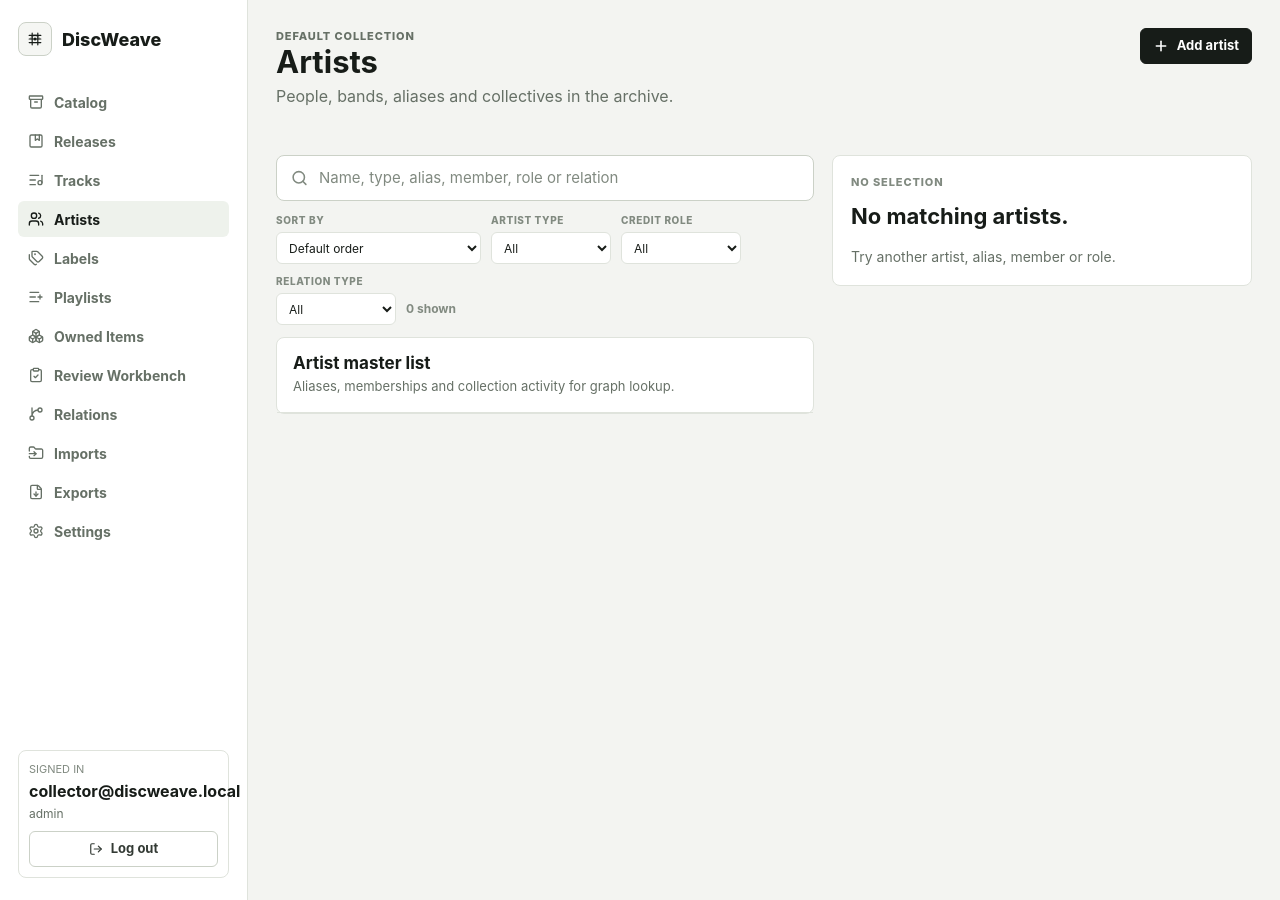
Scenario: App workspace navigation › shows mutation errors in editable workspaces
This screenshot has width=1280, height=900.
Click the button "Add artist": (1196, 46) [1140, 28, 1252, 64]
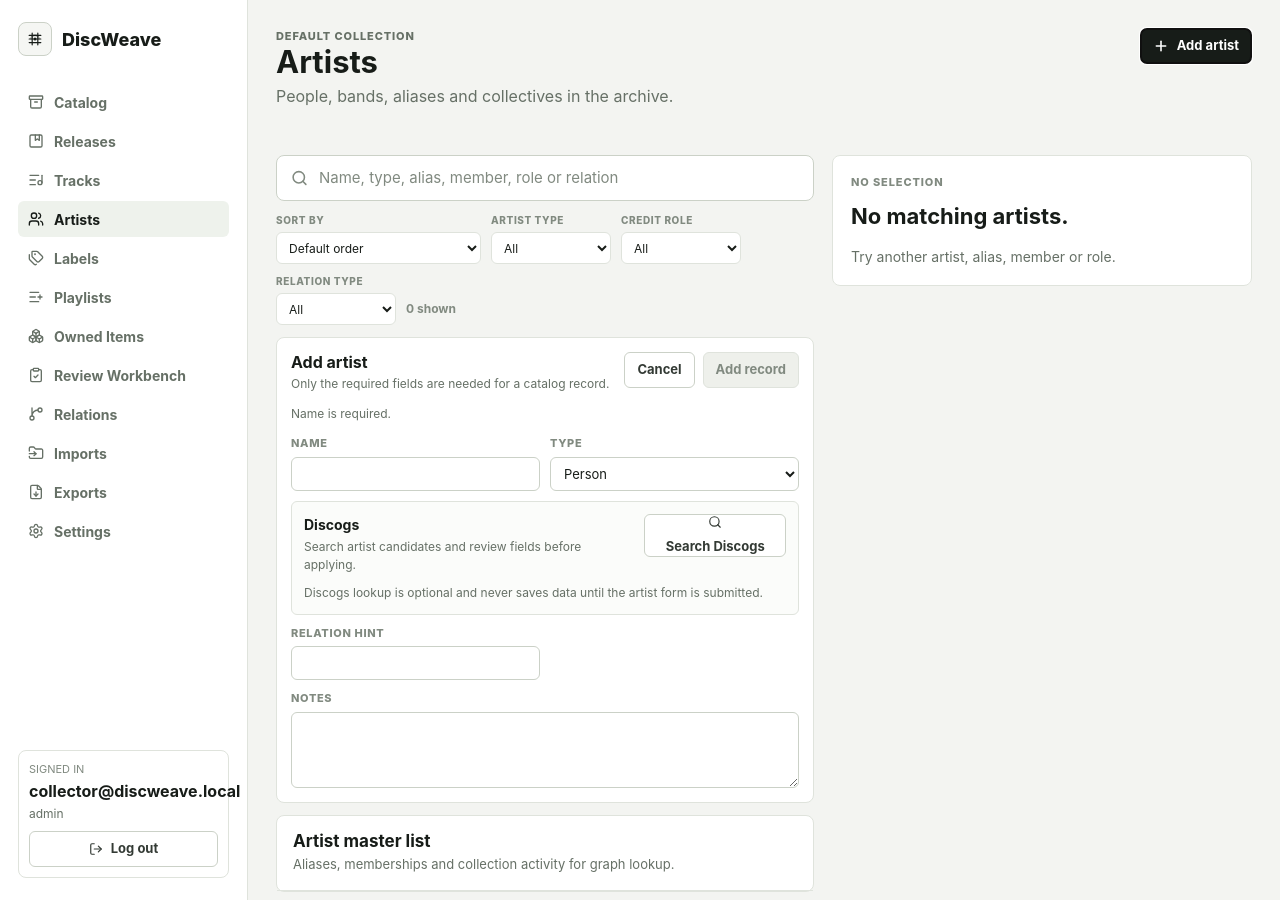
In the field labelled "Name": (416, 474) [291, 457, 540, 491], type "Failed Artist"
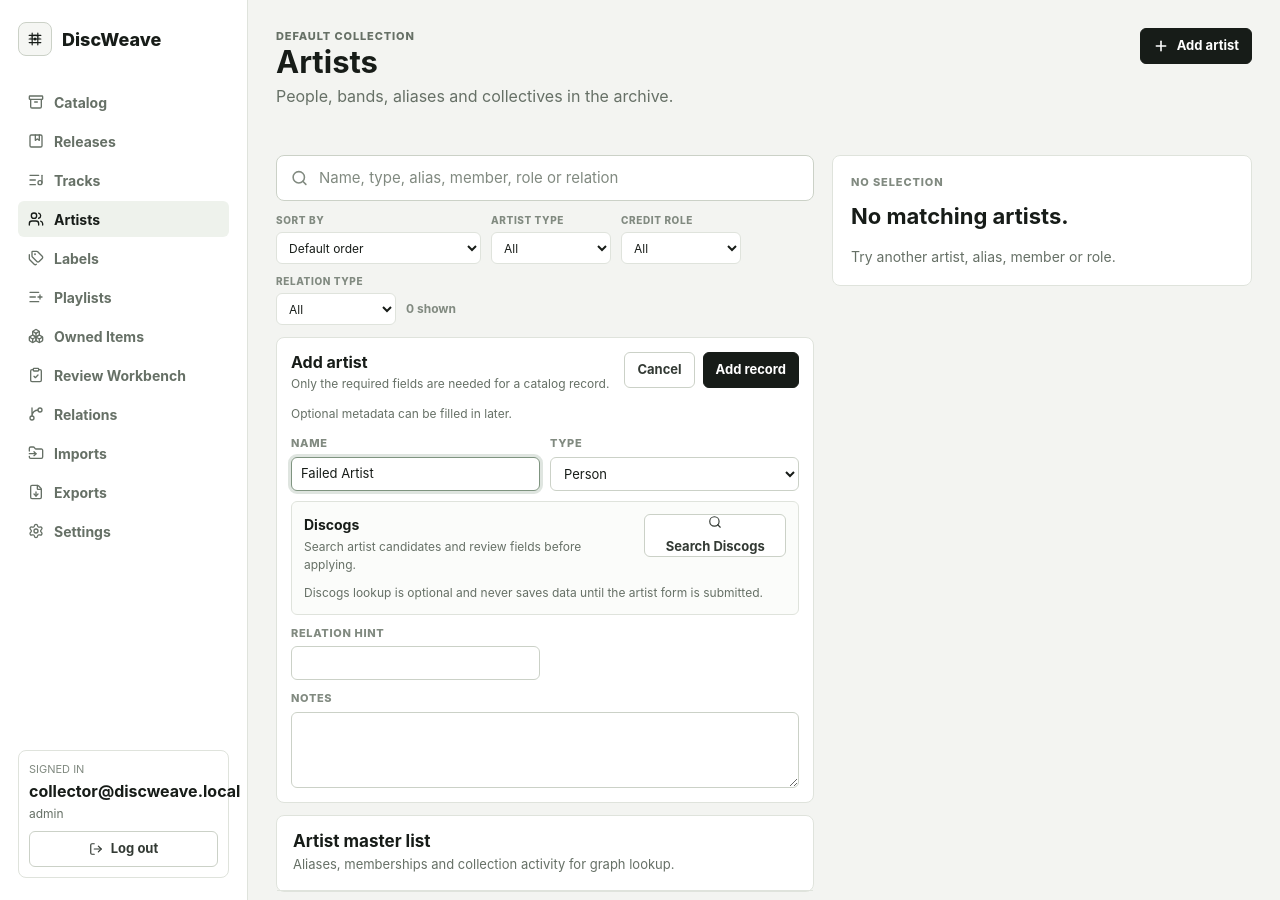
Click the button "Add record": (751, 370) [703, 352, 799, 388]
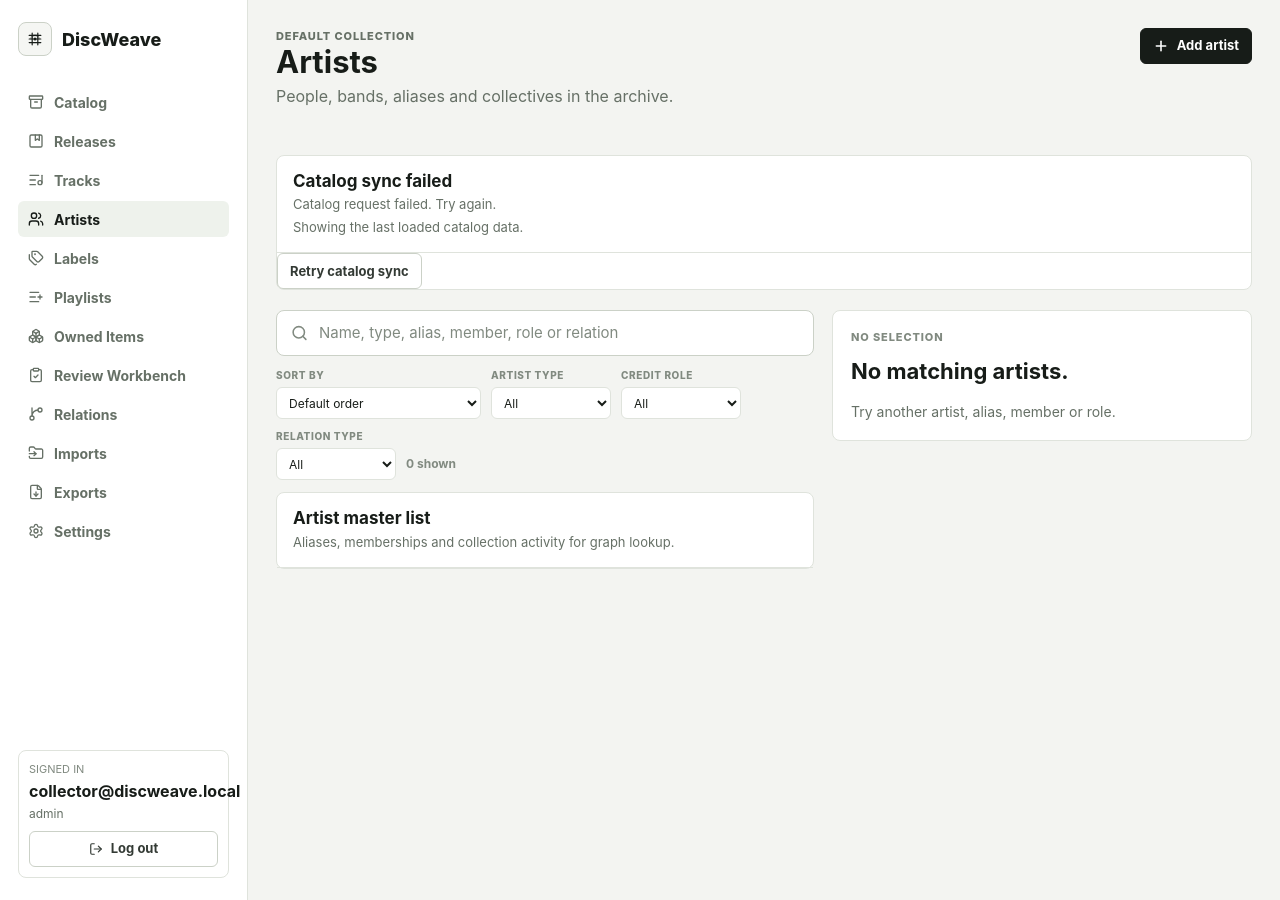
Expected: the message reads "Catalog request failed. Try again.", [293, 196, 496, 212]
